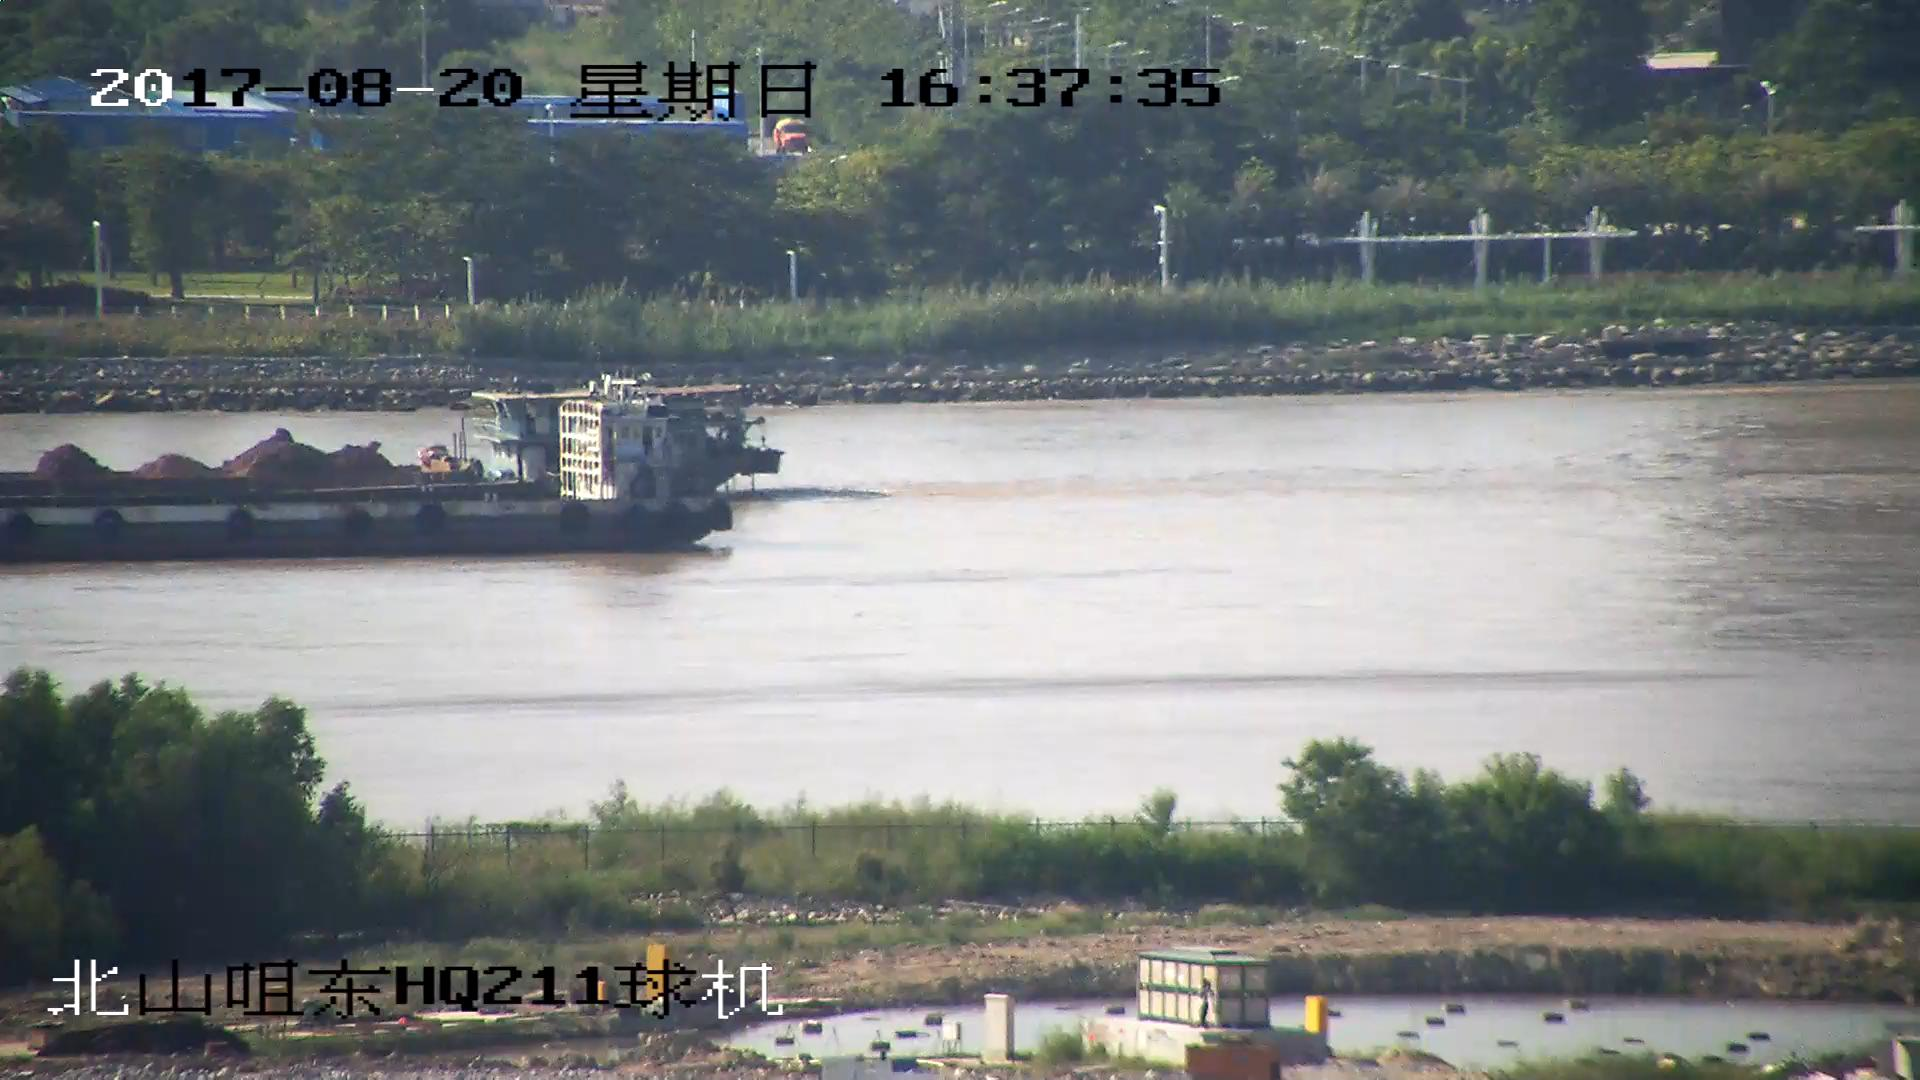general cargo ship: (1, 395, 736, 557)
ore carrier: (1, 397, 780, 503)
